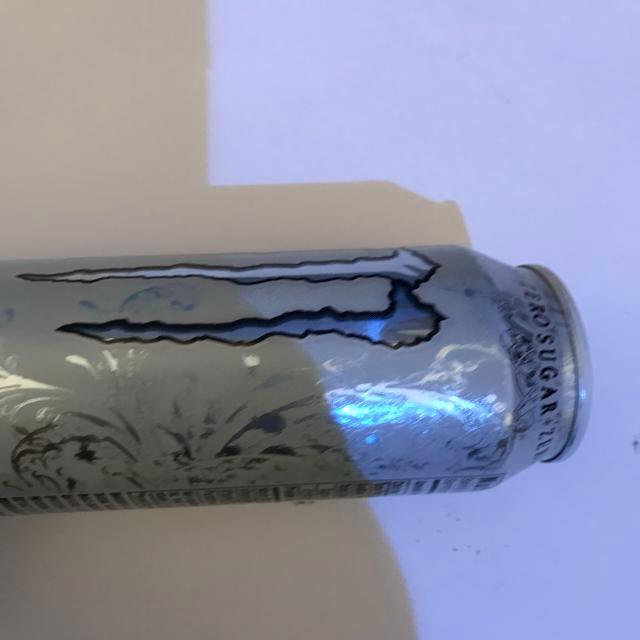metal: (1, 242, 603, 520)
